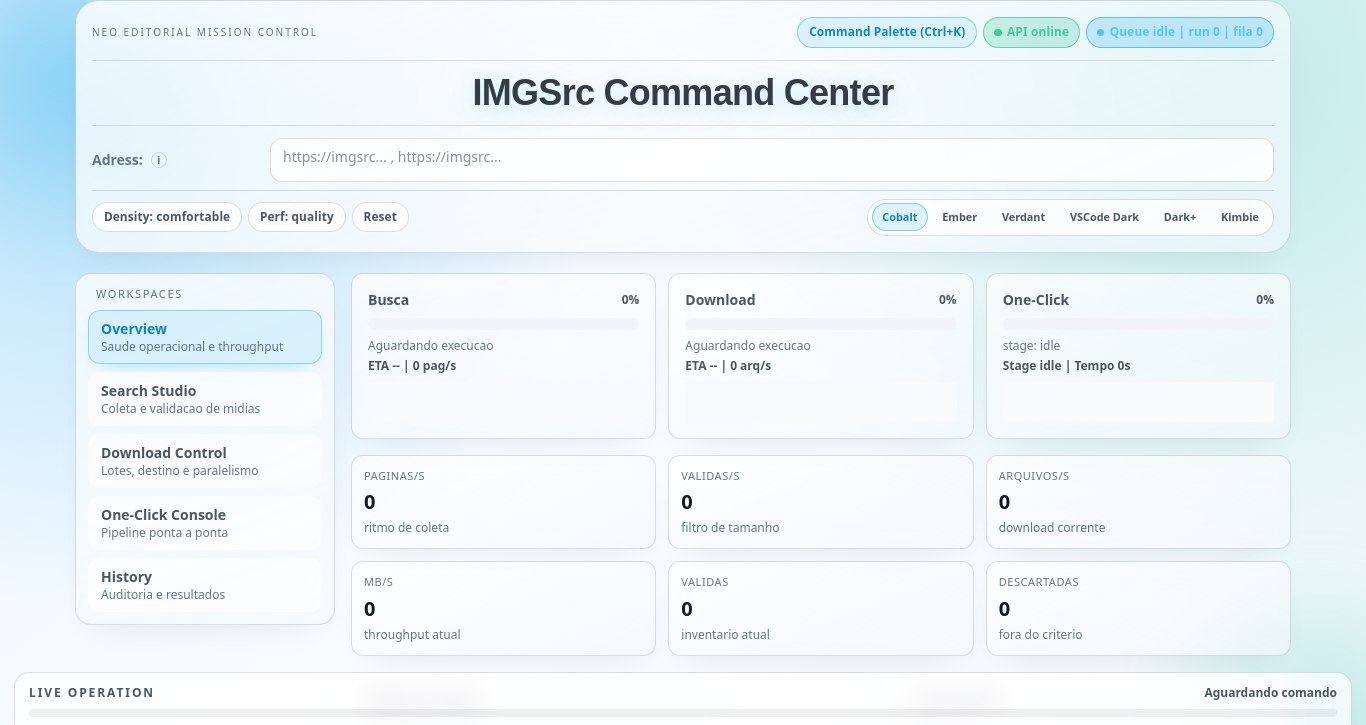
Scenario: App mission control › navega entre workspaces
Expected: the heading "IMGSrc Command Center" is shown, top-left (472, 72), bottom-right (894, 113)
Click the text "Search Studio" at (149, 391), box top-left (101, 381), bottom-right (196, 400)
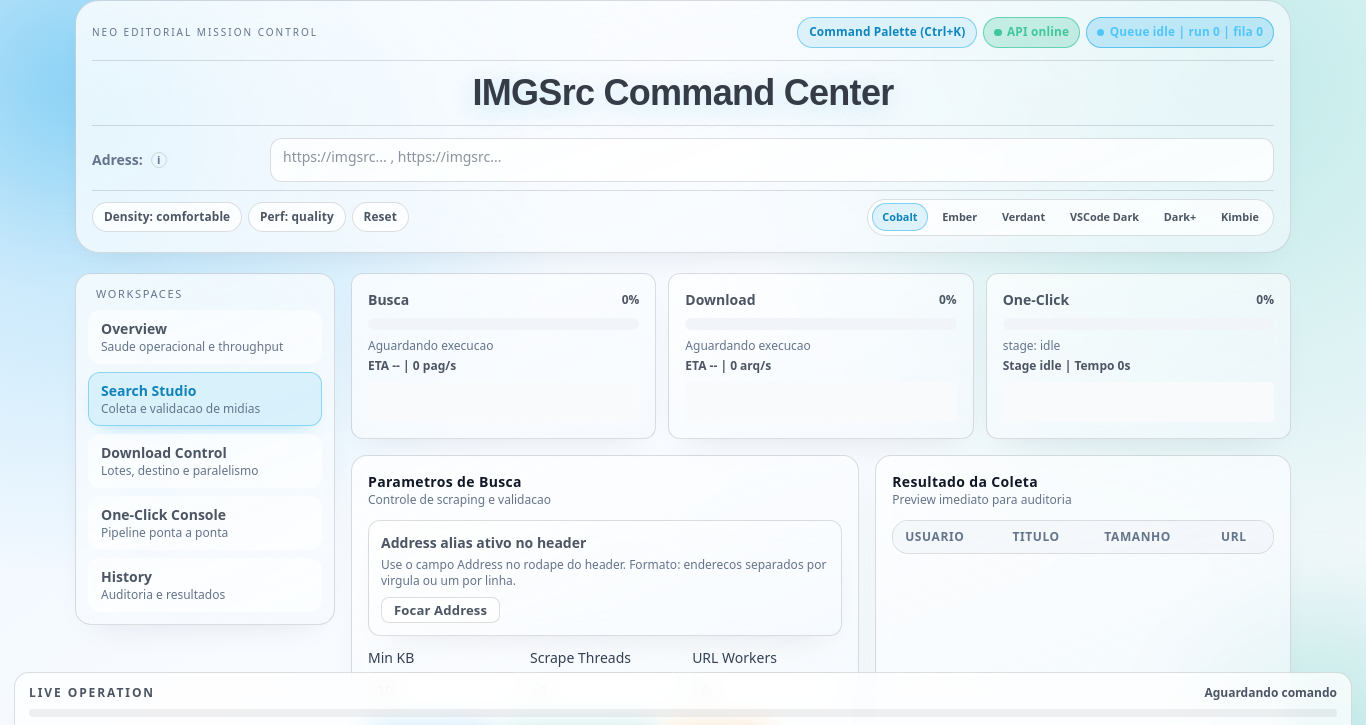
Now the text "Parametros de Busca" is shown, box top-left (368, 472), bottom-right (522, 491)
Click the text "Download Control" at (164, 453), box top-left (101, 443), bottom-right (227, 462)
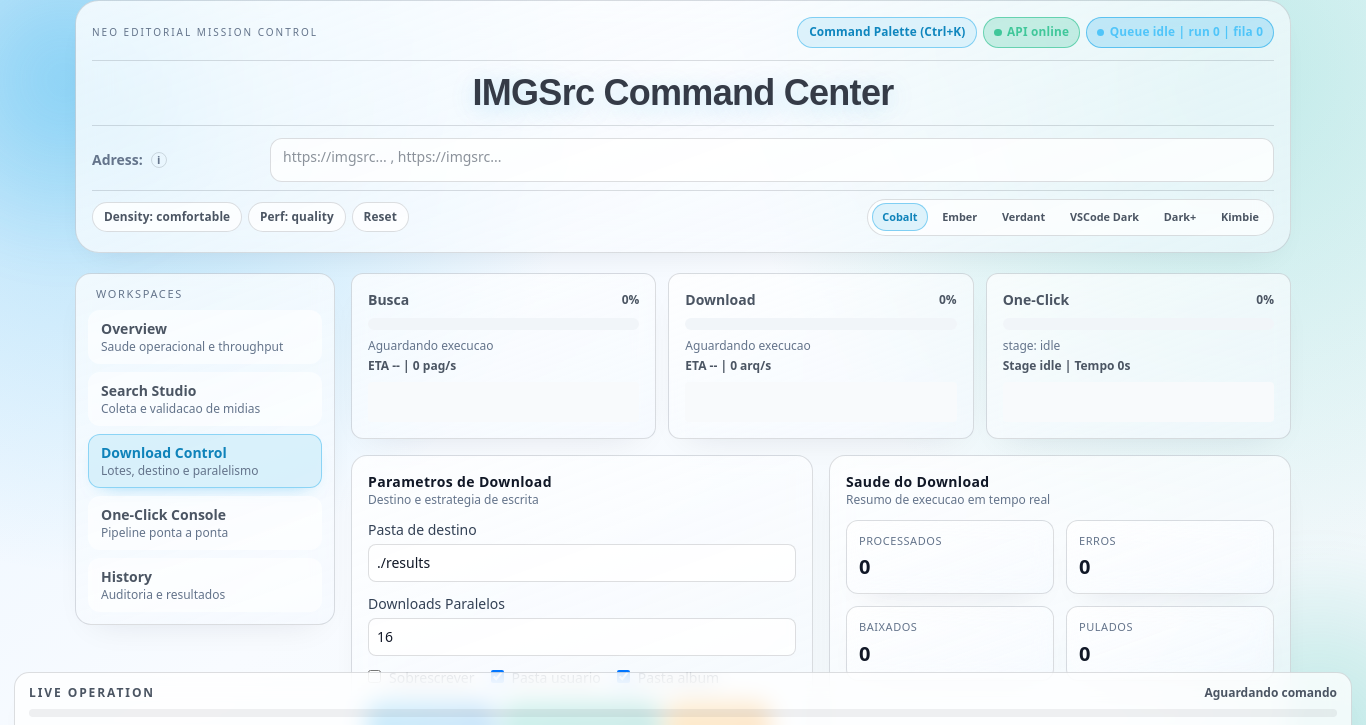
Now the text "Parametros de Download" is shown, box top-left (368, 472), bottom-right (552, 491)
